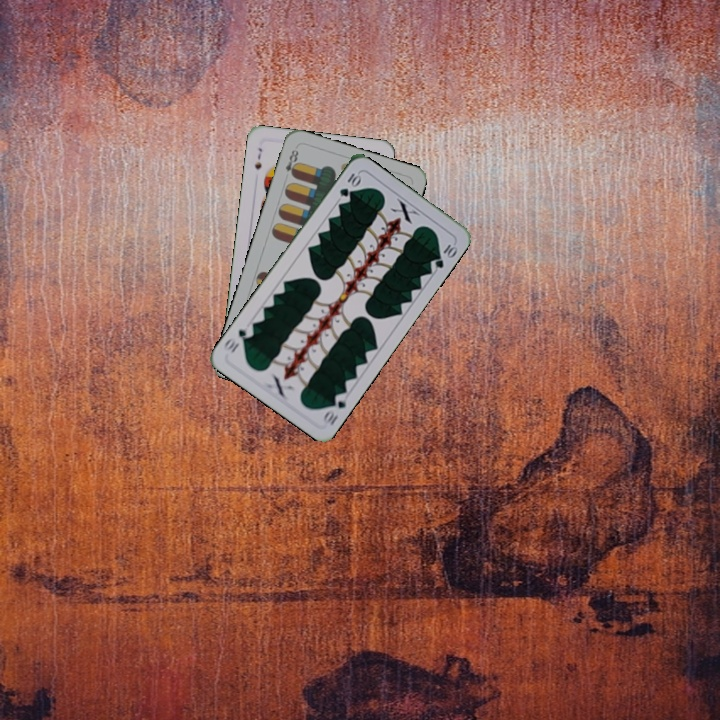E8: (281, 143, 301, 180)
G10: (318, 389, 349, 428), (335, 169, 363, 199)
S7: (251, 144, 265, 172)
